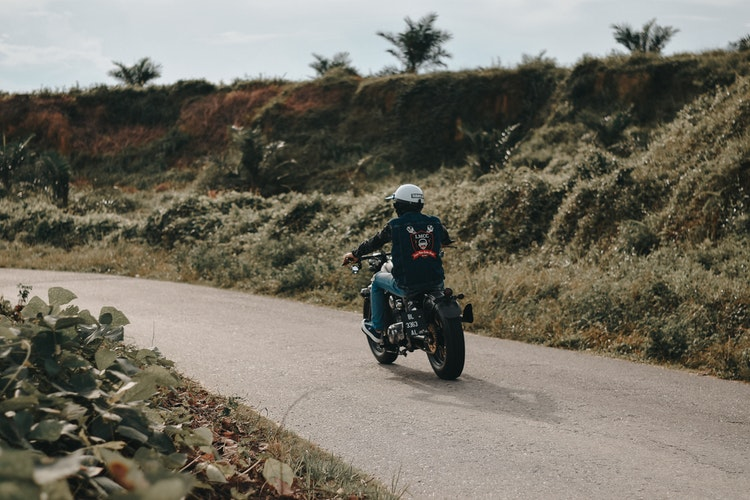helmet: (394, 177, 428, 212)
